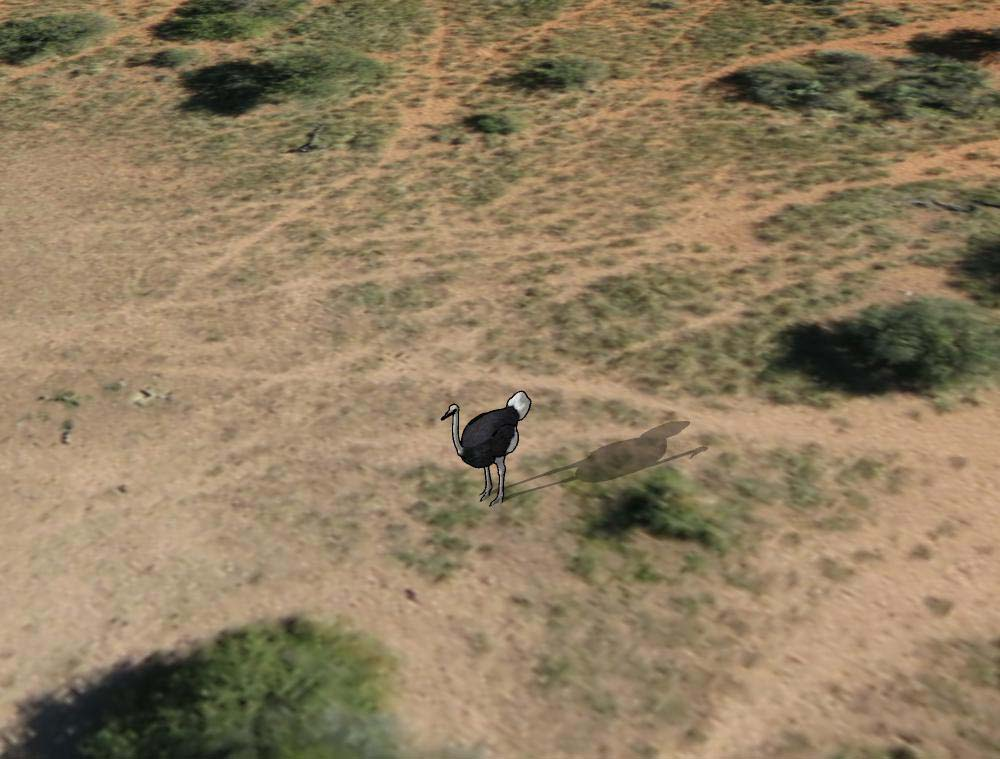ostrich: (435, 389, 542, 504)
